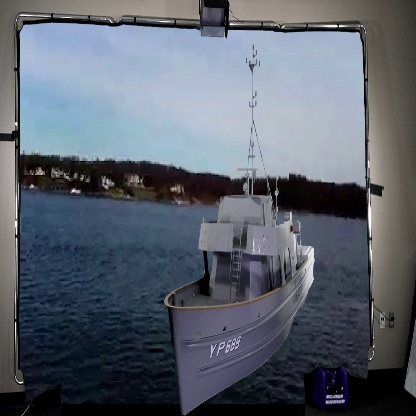YP689: (162, 48, 314, 412)
